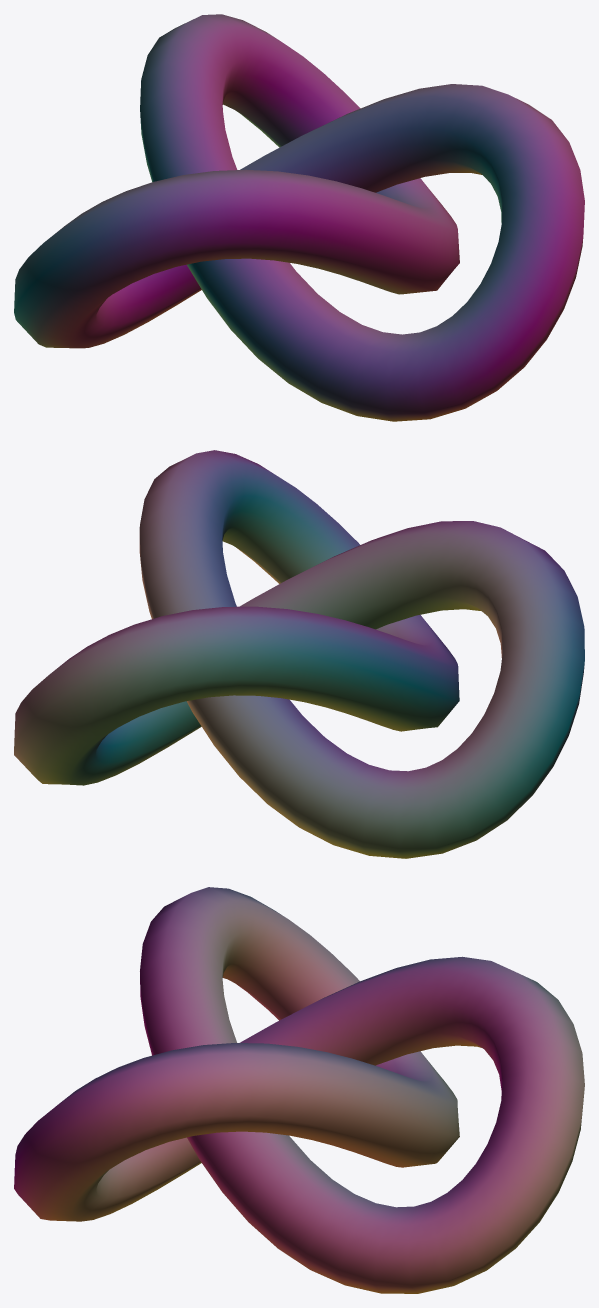
Rendered from TorusKnot.fbx.
3 views of the same model, one above another, from view 1: azimuth 30°, elevation 25°; view 2: azimuth 150°, elevation 25°; view 3: azimuth 270°, elevation 25° (orthographic).
Visible parts, largest first — view 1: TorusKnot; view 2: TorusKnot; view 3: TorusKnot.
Part boxes in pixels (<box>): TorusKnot: <box>14,14,584,421</box>; TorusKnot: <box>14,450,584,858</box>; TorusKnot: <box>14,887,584,1293</box>.
Size of the model in its own units: 604 by 296 by 641.
